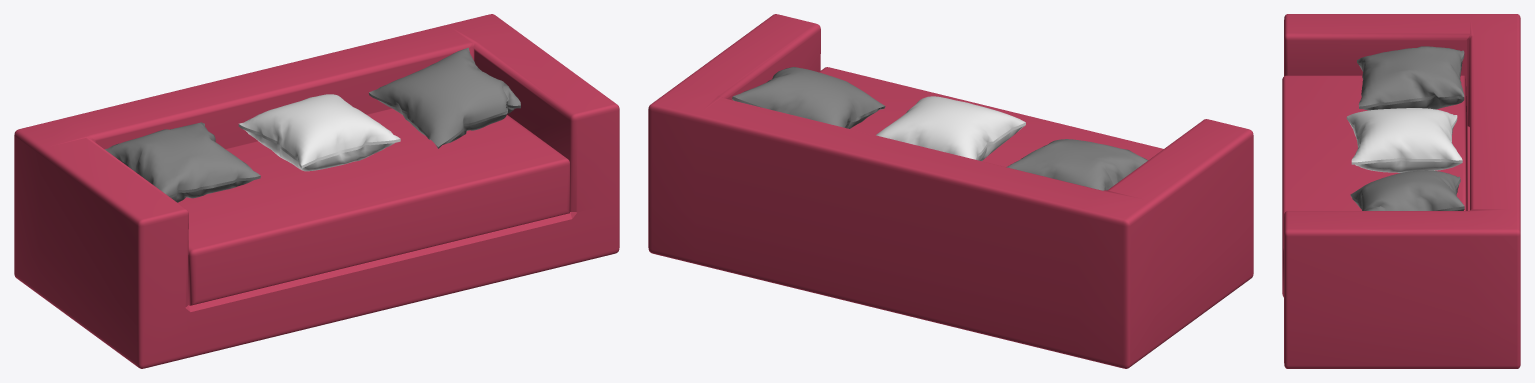
The model's file is Sofa.FBX.
3 renders of one model, left to right at view 1: azimuth 30°, elevation 25°; view 2: azimuth 150°, elevation 25°; view 3: azimuth 270°, elevation 25°, orthographic. The views are drawn at different scales.
Parts seen in each view (by area): view 1: Box001, Box002, Box003, Box005, Box004; view 2: Box001, Box002, Box005, Box003, Box004; view 3: Box001, Box002, Box005, Box004, Box003.
Part boxes in pixels (<box>): Box001: <box>14,14,619,368</box>; Box002: <box>178,108,569,305</box>; Box003: <box>369,47,520,148</box>; Box005: <box>238,94,400,171</box>; Box004: <box>105,122,260,202</box>; Box001: <box>648,14,1253,368</box>; Box002: <box>819,67,1163,166</box>; Box005: <box>876,96,1025,161</box>; Box003: <box>732,67,885,128</box>; Box004: <box>1006,139,1147,190</box>; Box001: <box>1284,14,1520,368</box>; Box002: <box>1282,75,1467,297</box>; Box005: <box>1346,108,1462,172</box>; Box004: <box>1357,46,1464,110</box>; Box003: <box>1350,170,1464,210</box>.
Size of the model in its own units: 90 by 28.41 by 41.39.
